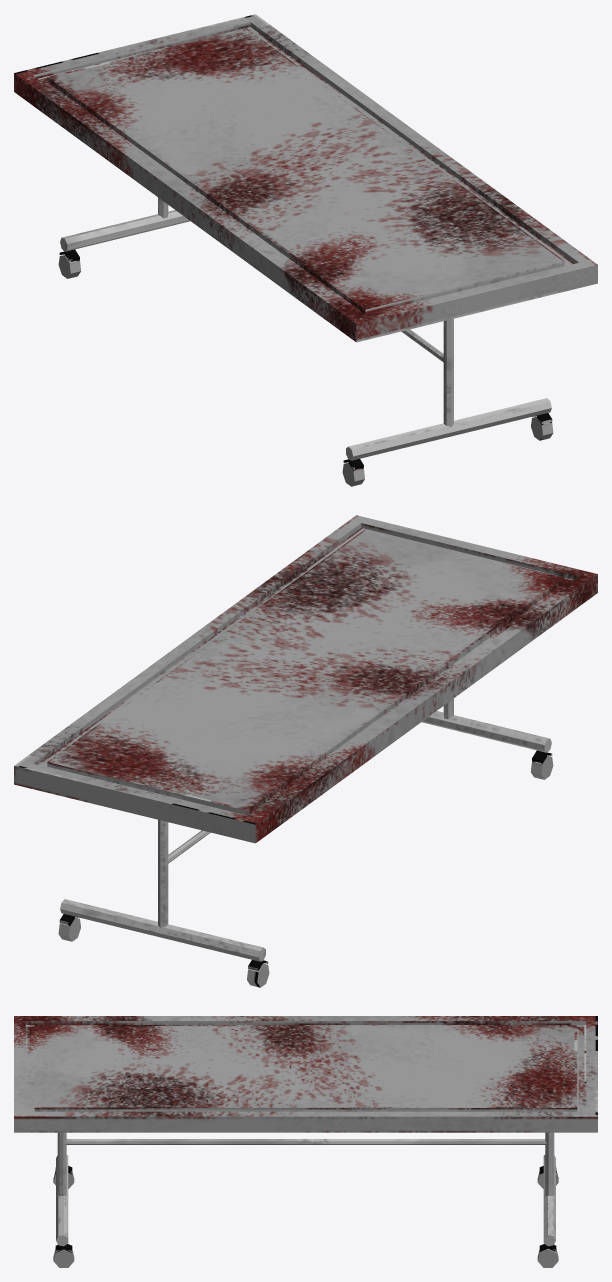
The model's file is Env_Table_Surgical.fbx.
The picture shows the model from 3 angles, top to bottom: view 1: azimuth 30°, elevation 25°; view 2: azimuth 150°, elevation 25°; view 3: azimuth 270°, elevation 25°; orthographic projection. The views are drawn at different scales.
Visible parts, largest first — view 1: Surgical_Table; view 2: Surgical_Table; view 3: Surgical_Table.
Boxes of the visible parts, bbox=[...] form: Surgical_Table: bbox=[14, 14, 597, 486]; Surgical_Table: bbox=[14, 515, 597, 987]; Surgical_Table: bbox=[14, 1016, 597, 1267].
Bounding box in the file's own units: 105 × 78.05 × 258.
